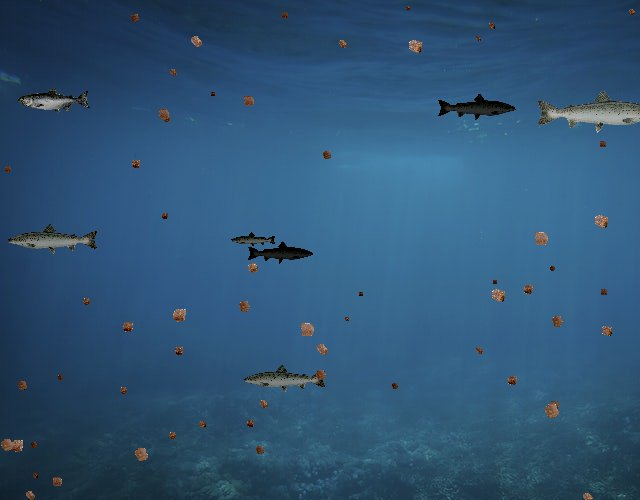Fish: (534, 88, 640, 134), (7, 223, 101, 256), (242, 363, 328, 394), (437, 92, 518, 121), (19, 88, 92, 114), (246, 240, 314, 265), (231, 231, 278, 248)
Pellet: (165, 301, 193, 329), (184, 29, 209, 54), (310, 337, 334, 361), (232, 294, 256, 318), (241, 256, 264, 279), (12, 375, 33, 396), (165, 64, 182, 81), (484, 19, 498, 33), (546, 262, 559, 275), (29, 470, 41, 482)
